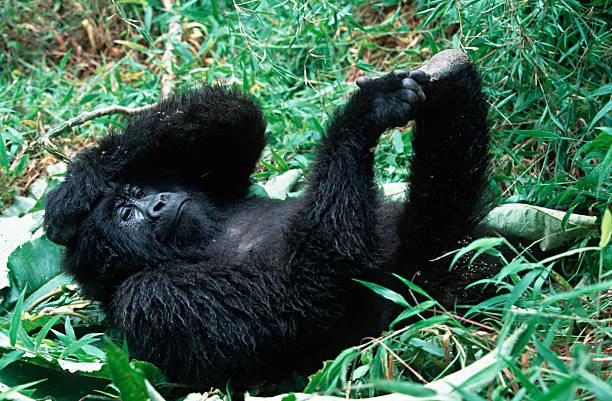goriile_montagne: (39, 73, 564, 356)
